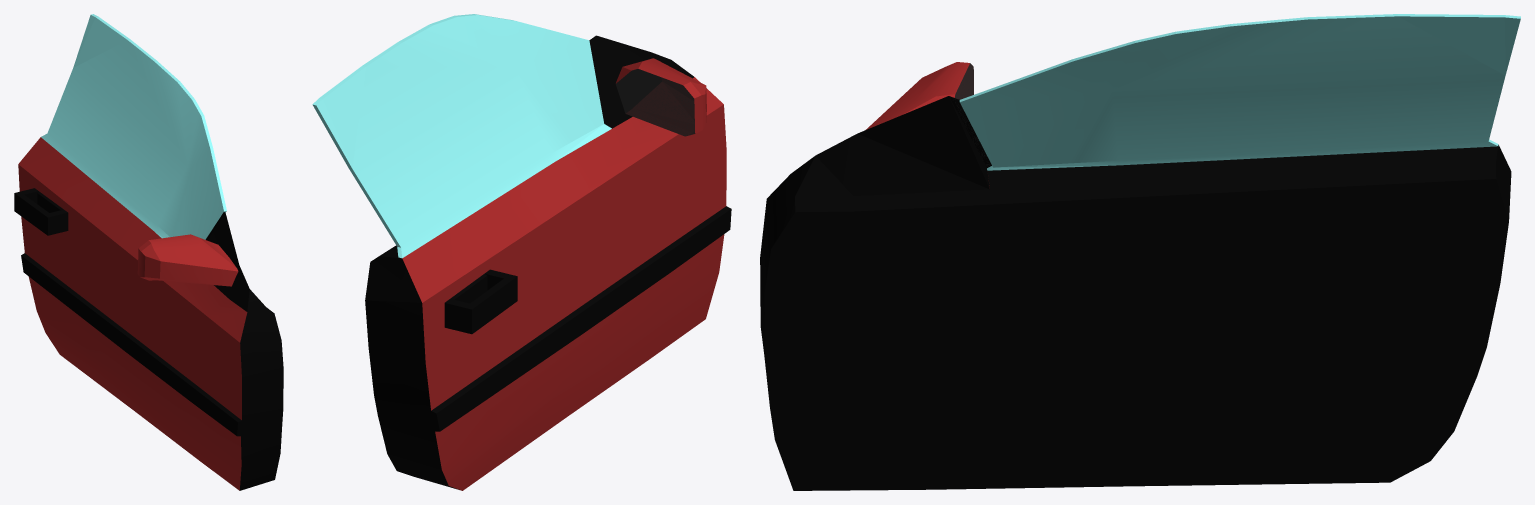
File: CarDoorFR.dae
The picture shows the model from 3 angles, left to right: view 1: azimuth 30°, elevation 25°; view 2: azimuth 150°, elevation 25°; view 3: azimuth 270°, elevation 25°; orthographic projection. The views are drawn at different scales.
Visible parts, largest first — view 1: door_rf_hi (×4), group_0, doornob; view 2: door_rf_hi (×6), group_0, doornob; view 3: door_rf_hi (×2), group_0.
Boxes of the visible parts, box(x1,y1,x2,y2) form: door_rf_hi (×4): box(18, 137, 283, 490); group_0: box(41, 14, 226, 239); doornob: box(14, 188, 68, 235); door_rf_hi (×6): box(365, 35, 731, 490); group_0: box(312, 14, 611, 258); doornob: box(444, 269, 517, 334); door_rf_hi (×2): box(760, 62, 1511, 490); group_0: box(959, 14, 1520, 170).
Bounding box in the file's own units: 16.33 × 53.25 × 39.08.
